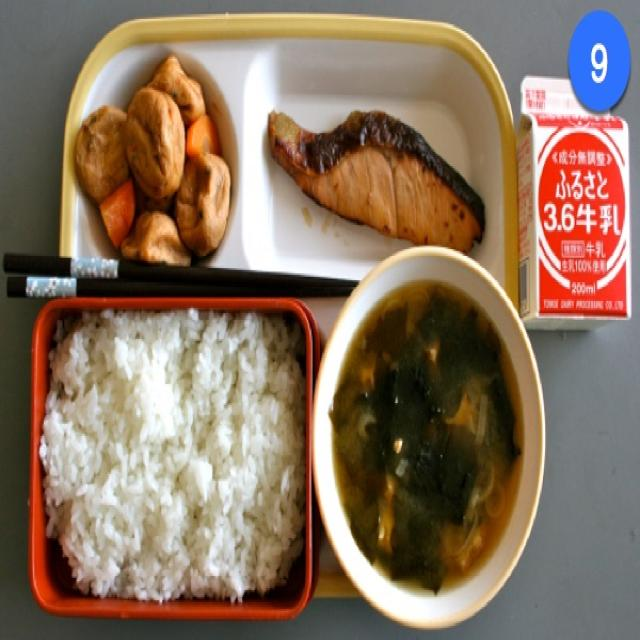Fish: (268, 111, 484, 253)
Non green veg: (100, 178, 135, 247), (186, 116, 219, 159)
Rice: (41, 311, 304, 598)
Tofu: (76, 55, 228, 265)
